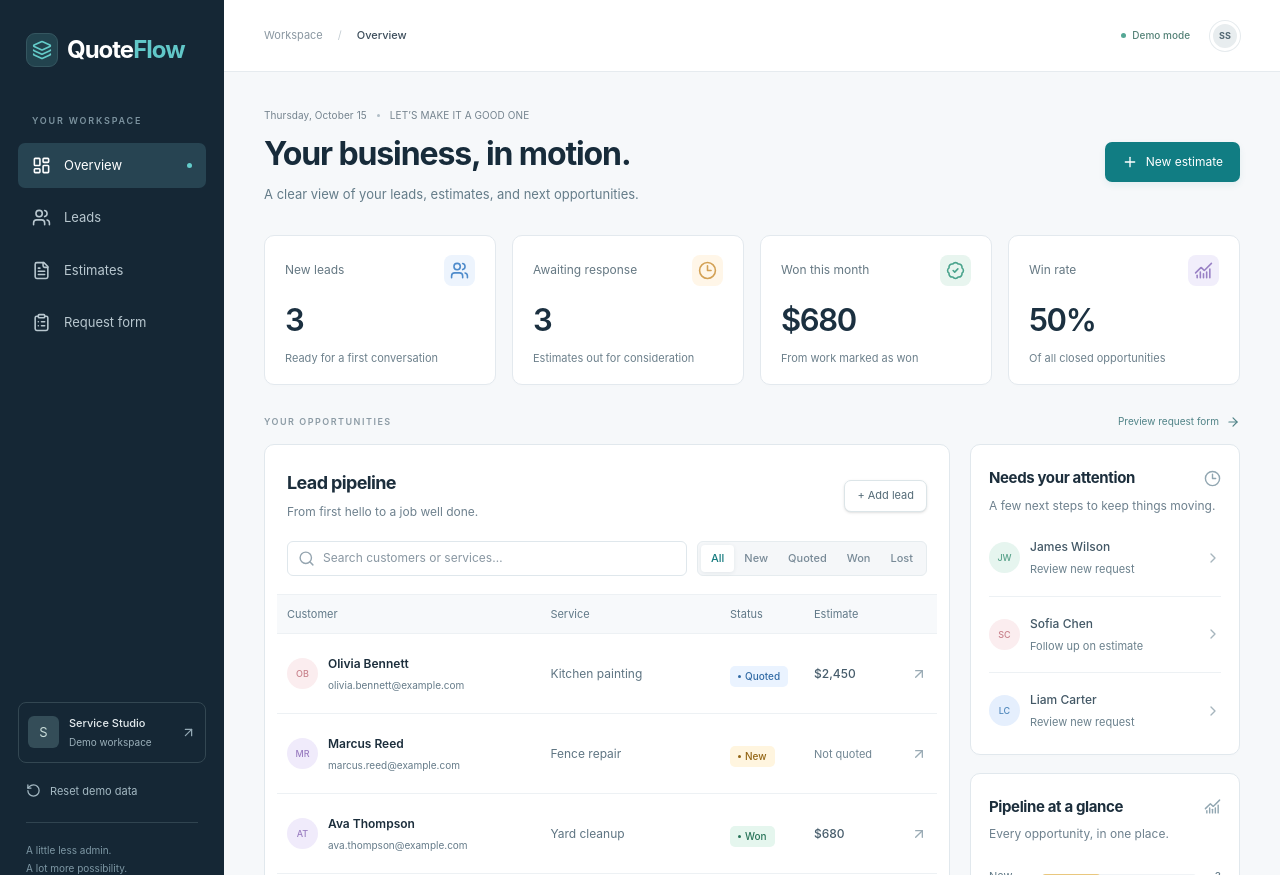
combines lead search and status filters
Check: the heading "Lead pipeline" is shown, box left=287, top=472, right=396, bottom=494
Type "fence" into the field with placeholder "Search customers or services…".
click(500, 558); type("fence")  # box left=323, top=549, right=676, bottom=567
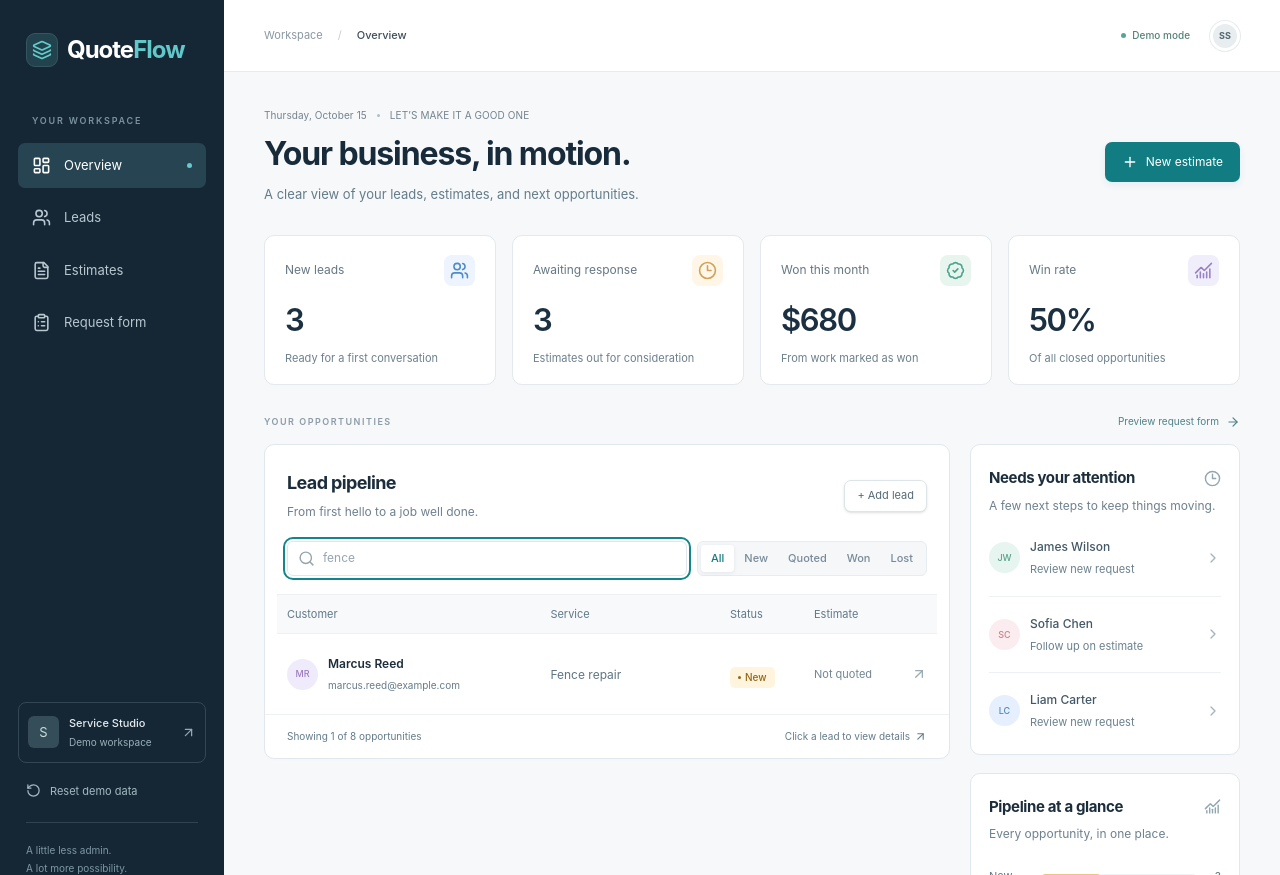
Check: the text "Marcus Reed" is shown, box left=328, top=656, right=404, bottom=671
Click the button "Won".
click(859, 558)  # box left=837, top=545, right=880, bottom=572
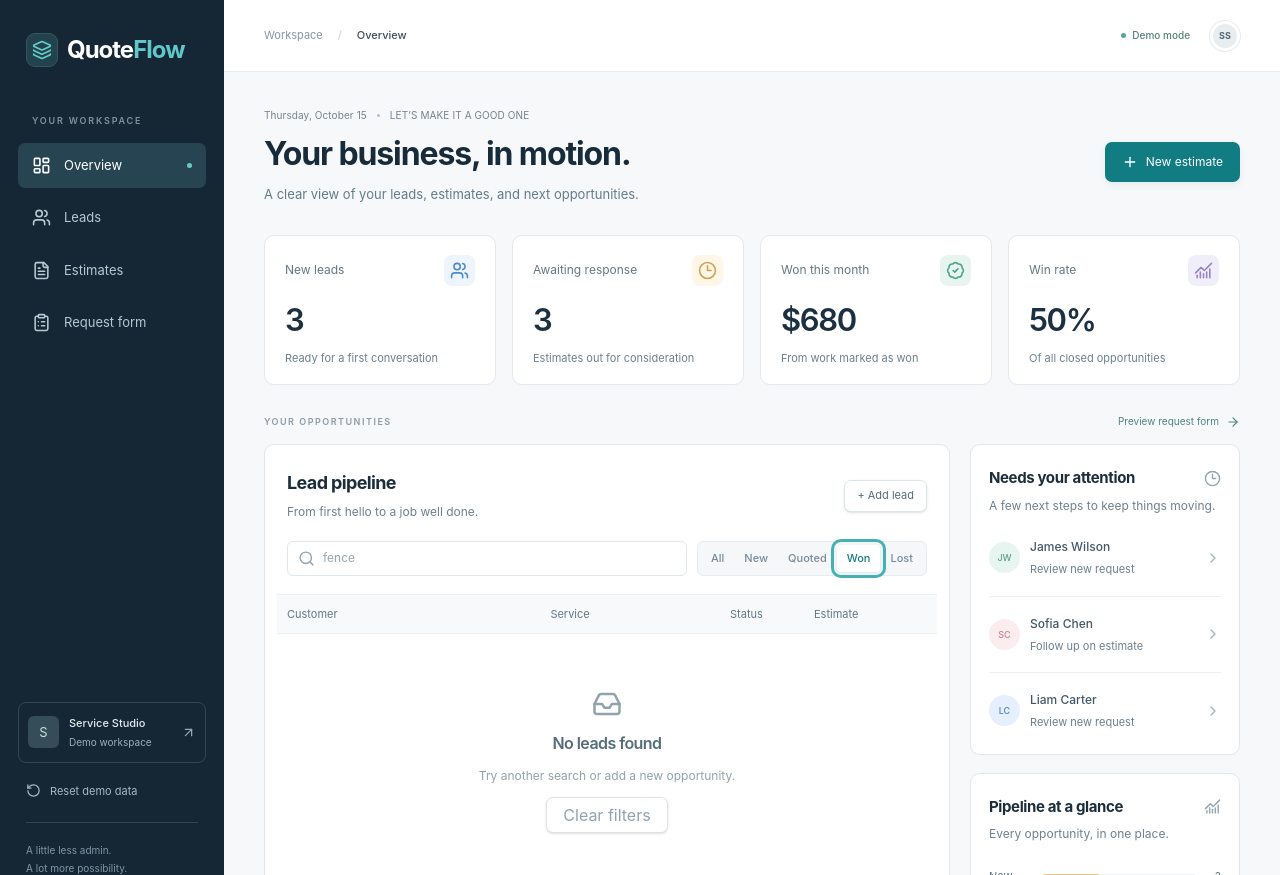
Check: the heading "No leads found" is shown, box left=552, top=731, right=662, bottom=755
